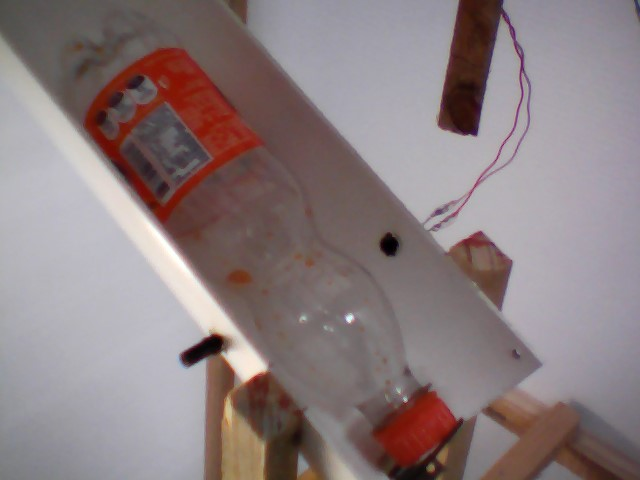plastico: (31, 1, 464, 474)
